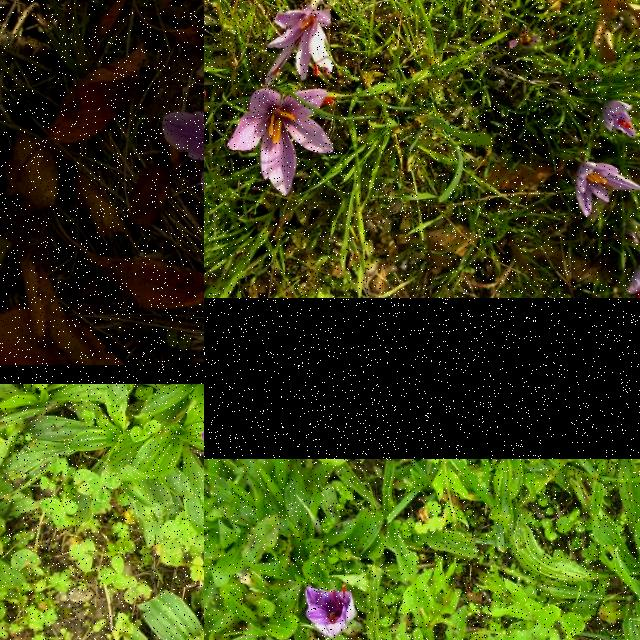flower: (227, 88, 335, 195), (163, 59, 204, 224), (266, 7, 334, 83), (576, 162, 640, 217), (304, 585, 356, 639), (604, 102, 638, 138), (626, 247, 640, 298)
